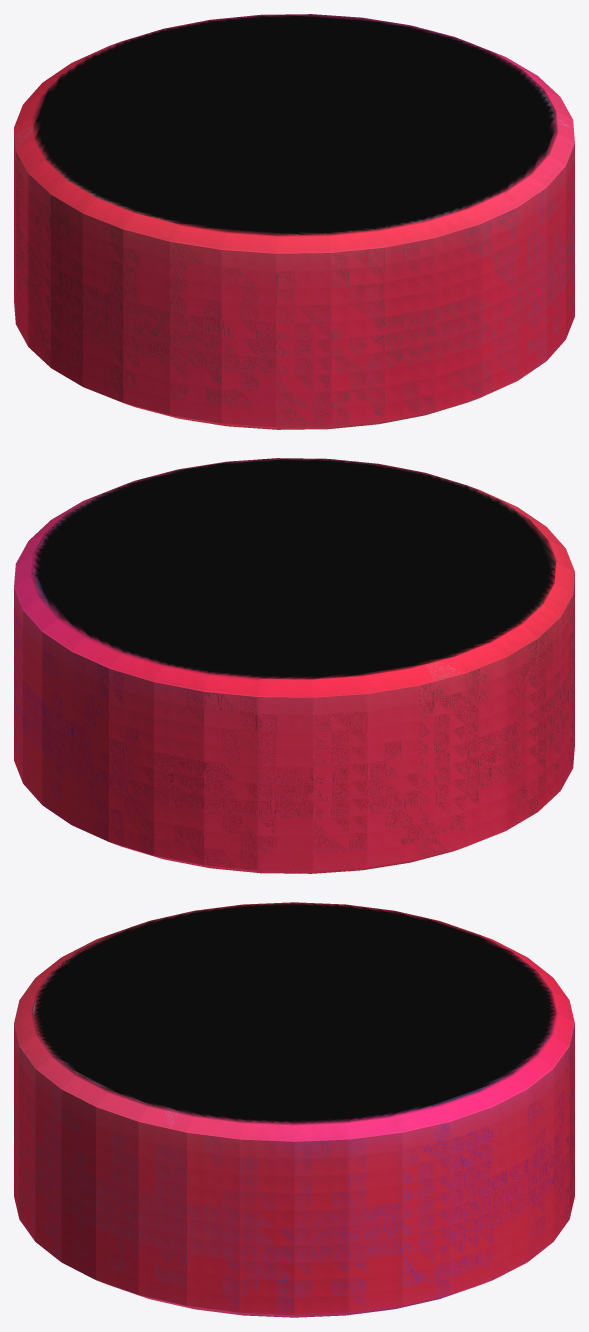
File: speaker.glb
The picture shows the model from 3 angles, top to bottom: view 1: azimuth 30°, elevation 25°; view 2: azimuth 150°, elevation 25°; view 3: azimuth 270°, elevation 25°; orthographic projection.
Visible parts, largest first — view 1: speaker; view 2: speaker; view 3: speaker.
Part boxes in pixels (x1=…): speaker: x1=14, y1=14, x2=574, y2=429; speaker: x1=14, y1=458, x2=574, y2=873; speaker: x1=14, y1=902, x2=574, y2=1317.
Bounding box in the file's own units: 0.264 × 0.1007 × 0.264.
Materials: 1 (1 with a texture image).
